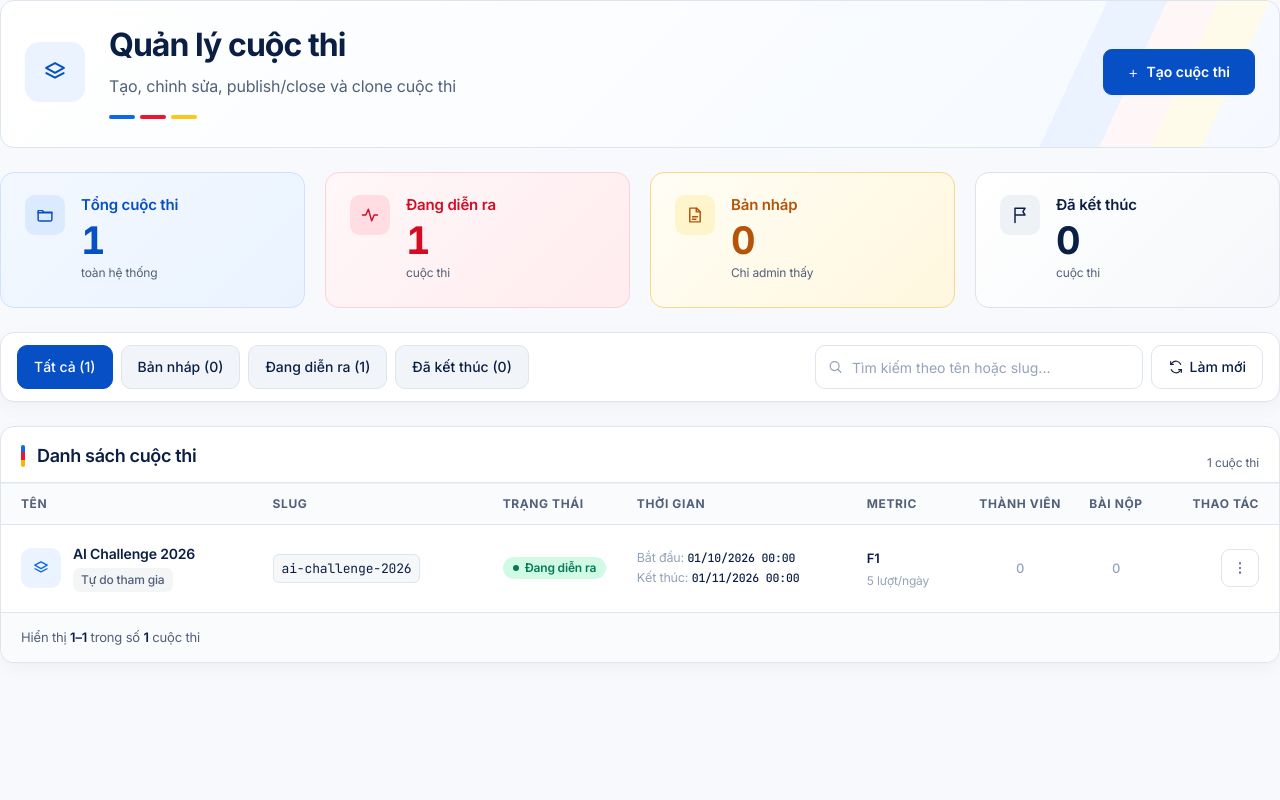
Test: edit form khóa slug khi published
Click the button named "Thao tác cho AI Challenge 2026" at (1240, 568), box [1221,549,1259,587]
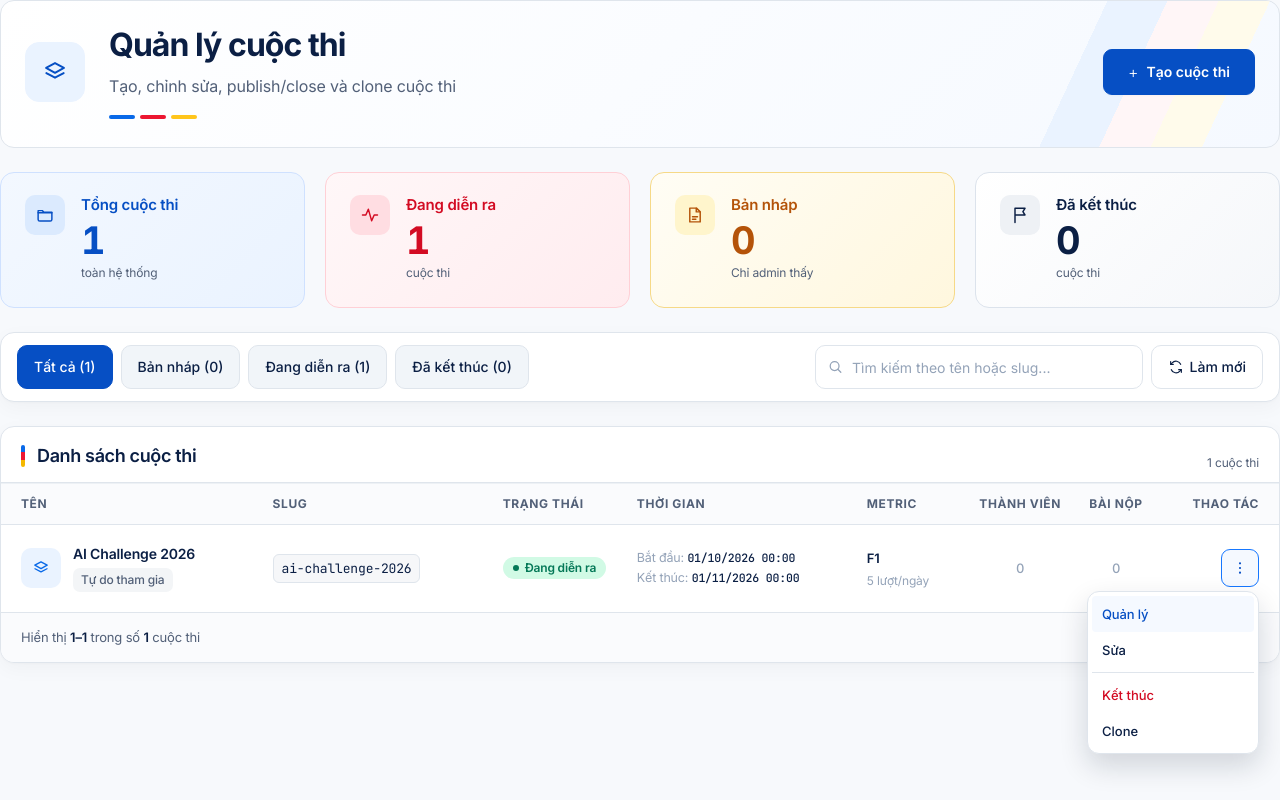
Click the menu item "Sửa" at (1173, 650), box [1092,632,1254,668]
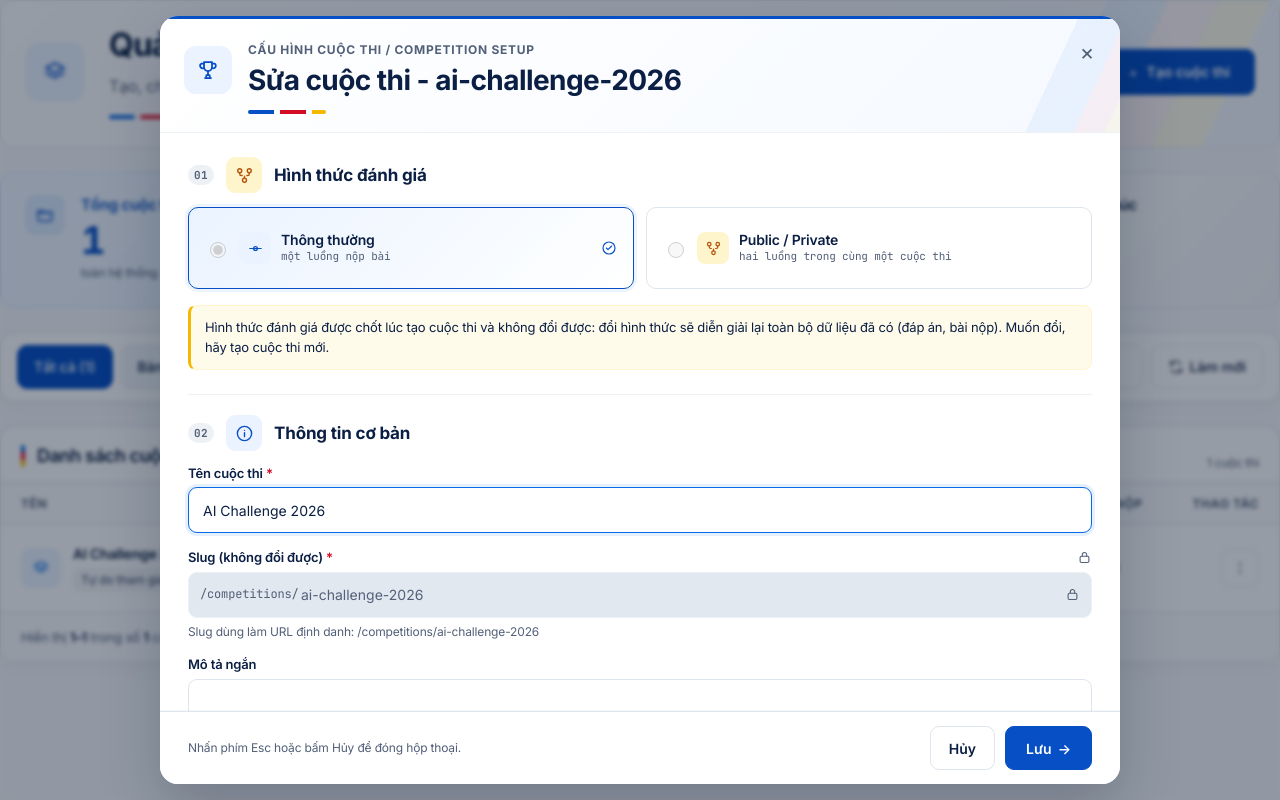
Result: the field labelled "Slug (không đổi được)" is disabled at [188,572,1092,618]
